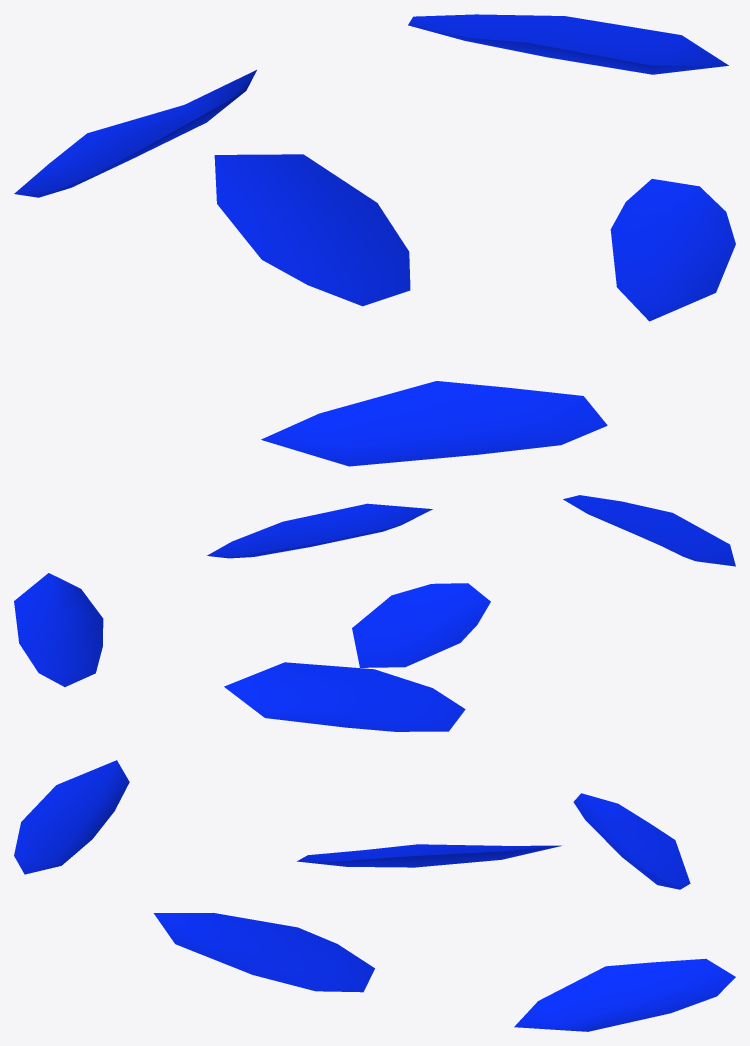
Rendered from DryPalm2.fbx.
The picture shows the model from 3 angles, top to bottom: view 1: azimuth 30°, elevation 25°; view 2: azimuth 150°, elevation 25°; view 3: azimuth 270°, elevation 25°; orthographic projection. The views are drawn at different scales.
Parts seen in each view (by area): view 1: DryPalm2; view 2: DryPalm2; view 3: DryPalm2.
Part boxes in pixels (left/top/right/bottom): DryPalm2: left=14, top=14, right=735, bottom=466; DryPalm2: left=14, top=495, right=735, bottom=731; DryPalm2: left=14, top=760, right=735, bottom=1031.
Bounding box in the file's own units: 145 × 8.67 × 164.
